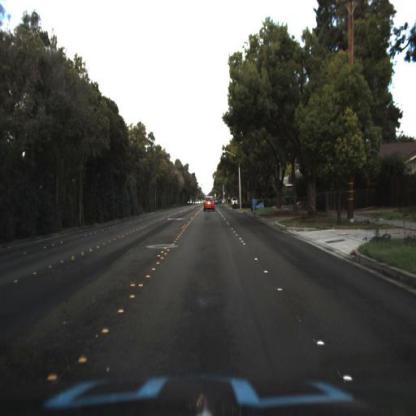car: (202, 191, 219, 216)
